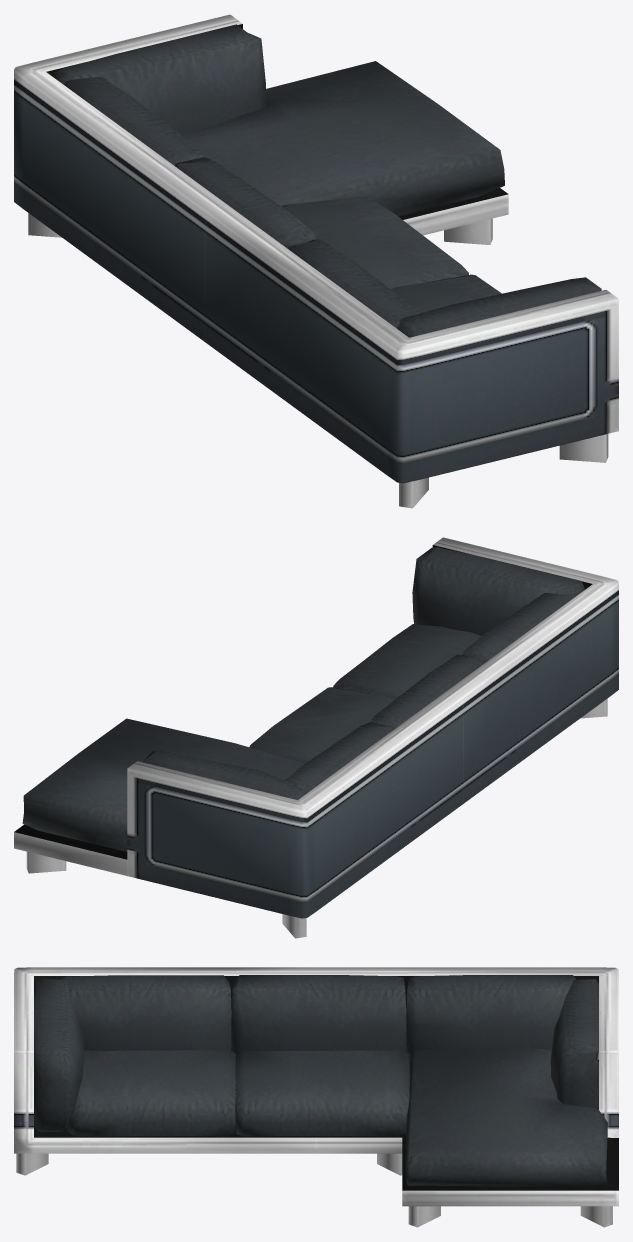
Rendered from Couch07.FBX.
The picture shows the model from 3 angles, top to bottom: view 1: azimuth 30°, elevation 25°; view 2: azimuth 150°, elevation 25°; view 3: azimuth 270°, elevation 25°; orthographic projection. The views are drawn at different scales.
Parts seen in each view (by area): view 1: Couch07; view 2: Couch07; view 3: Couch07.
Boxes of the visible parts, bbox=[...] form: Couch07: bbox=[14, 14, 618, 508]; Couch07: bbox=[14, 537, 618, 938]; Couch07: bbox=[14, 967, 618, 1227].
Bounding box in the file's own units: 1.76 × 0.7798 × 3.3.
